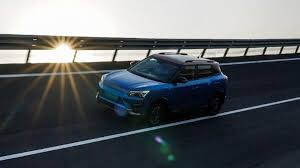XUV 400: (90, 52, 229, 123)
